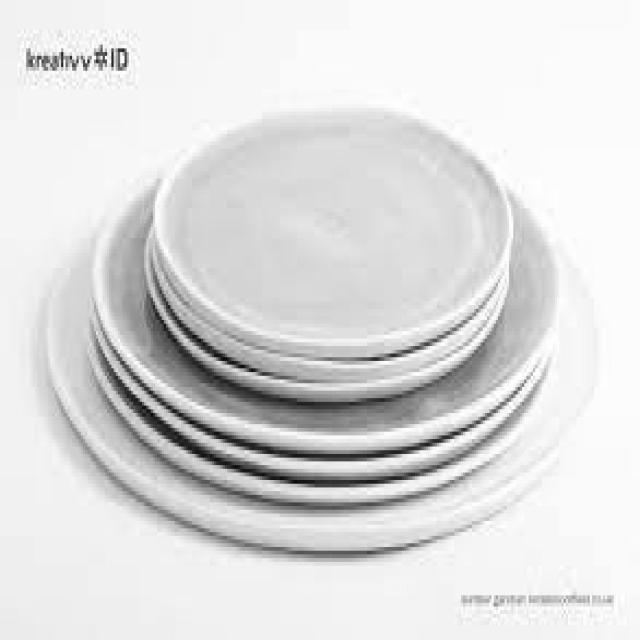dish: (41, 86, 612, 570)
